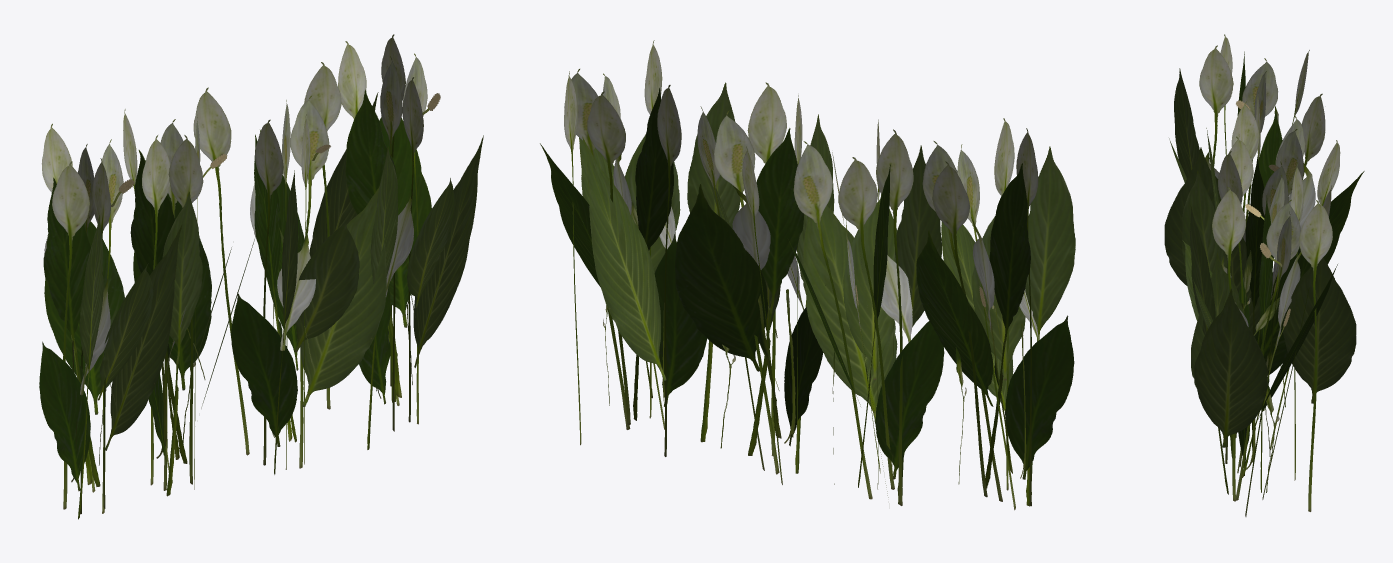
The model's file is flowers_lily.fbx.
3 views of the same model, side by side, from view 1: azimuth 30°, elevation 25°; view 2: azimuth 150°, elevation 25°; view 3: azimuth 270°, elevation 25° (orthographic). The views are drawn at different scales.
Parts seen in each view (by area): view 1: Plane_009; view 2: Plane_009; view 3: Plane_009.
Part boxes in pixels (x1=…): Plane_009: x1=39, y1=34, x2=483, y2=519; Plane_009: x1=540, y1=40, x2=1075, y2=510; Plane_009: x1=1164, y1=34, x2=1364, y2=516.
Size of the model in its own units: 250 by 218 by 120.
